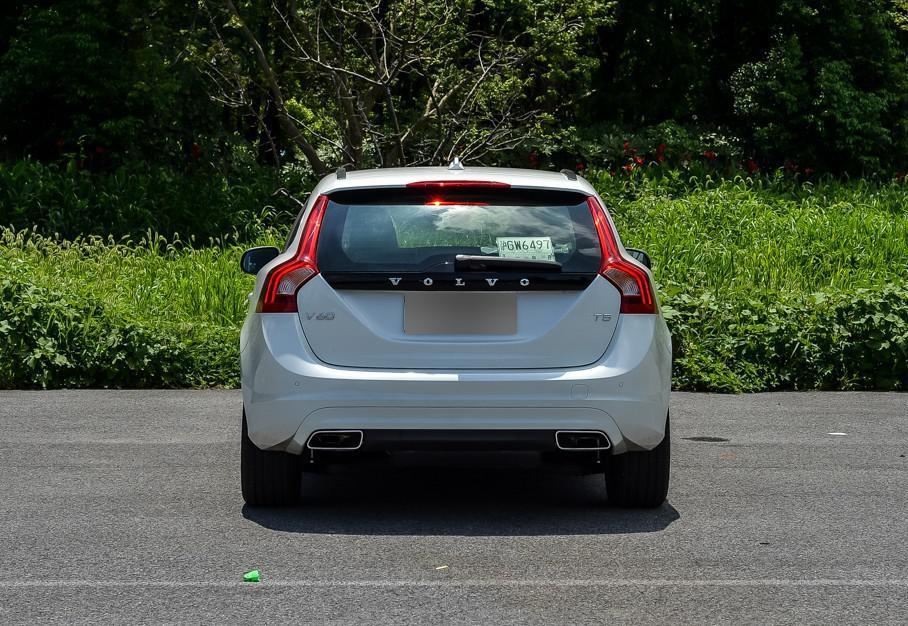Wagon: (238, 165, 673, 511)
